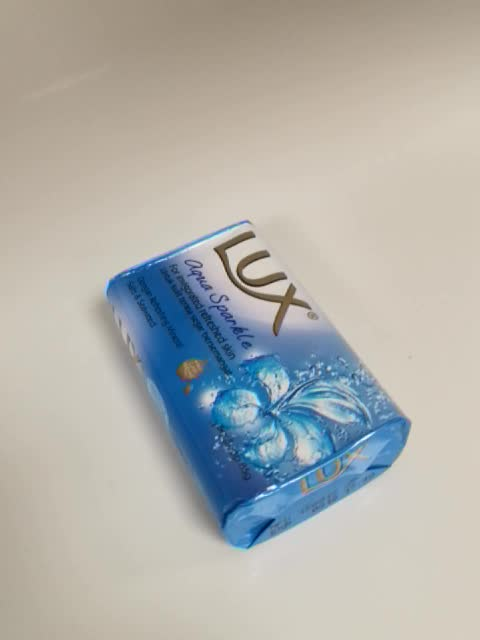soap: (105, 219, 412, 552)
